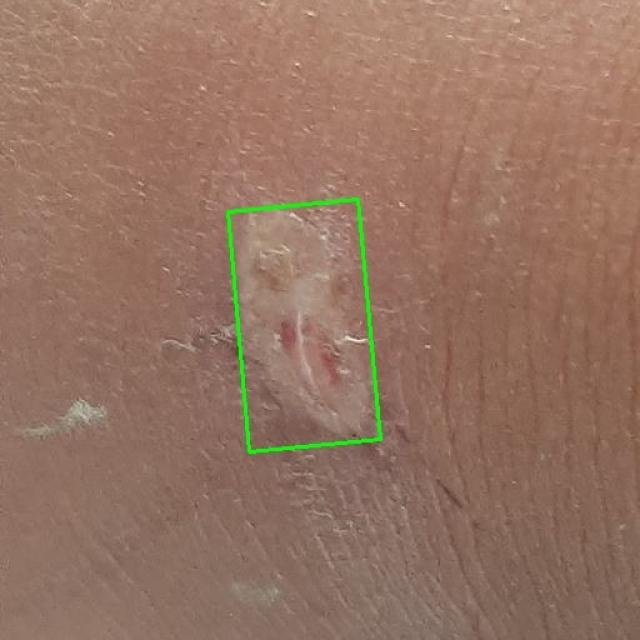Eczema: (228, 200, 380, 452)
